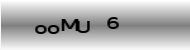6: (106, 15, 119, 29)
M: (61, 17, 78, 32)
U: (76, 19, 90, 33)
o: (33, 24, 46, 35), (47, 24, 59, 35)
